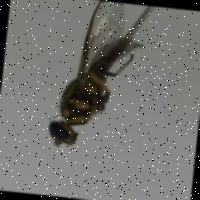Oriental-fruit-fly: (41, 0, 151, 161)
